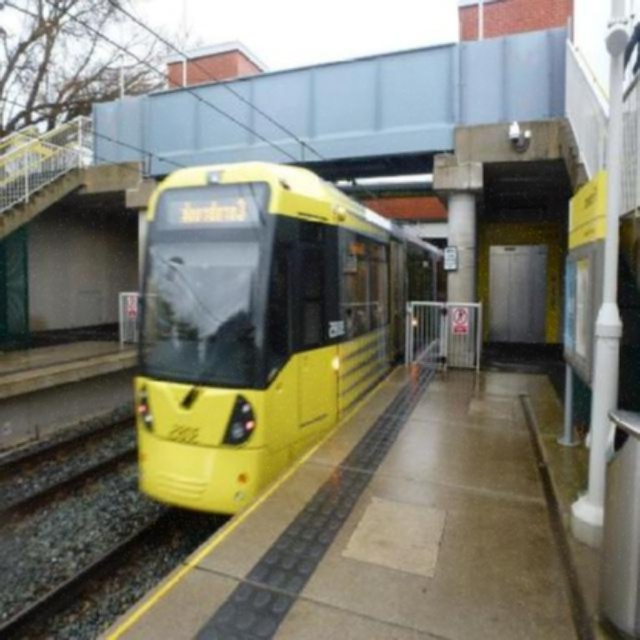stair: (0, 163, 77, 219)
